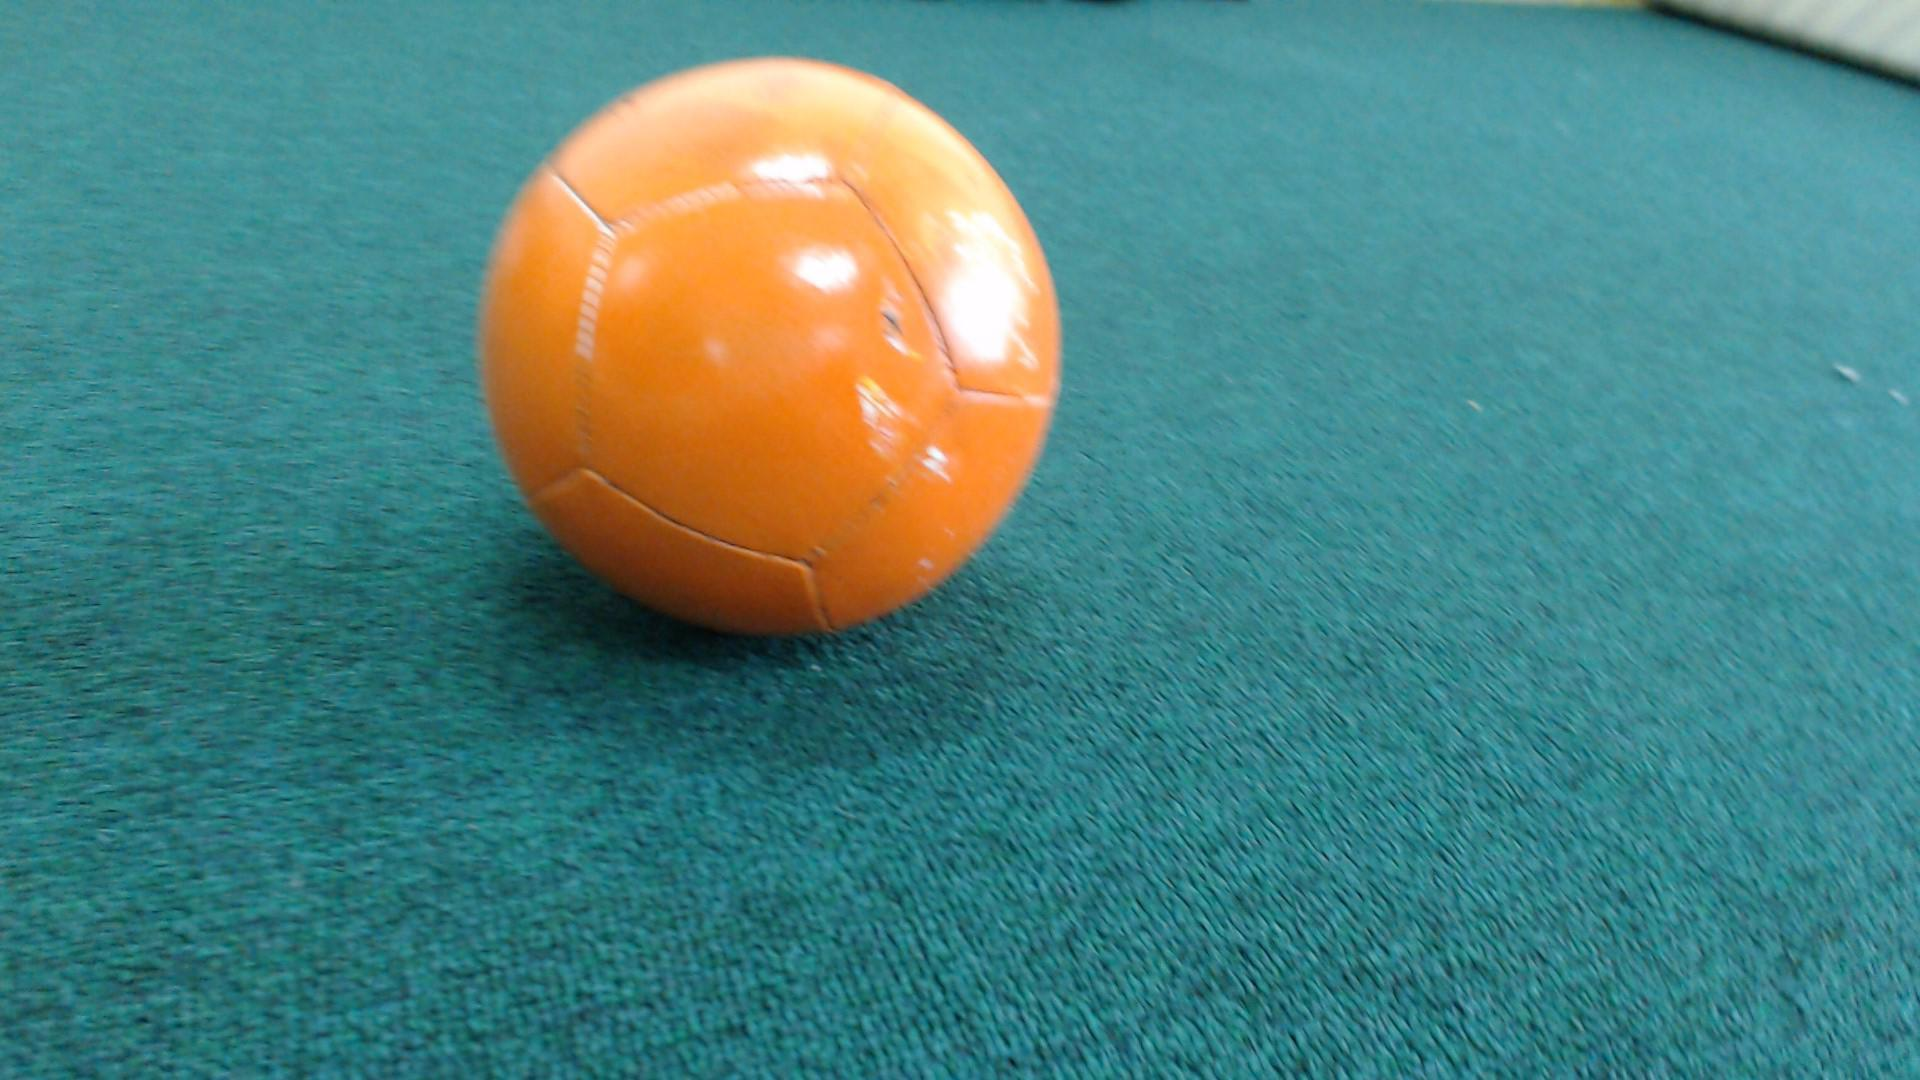bola: (464, 55, 1073, 663)
